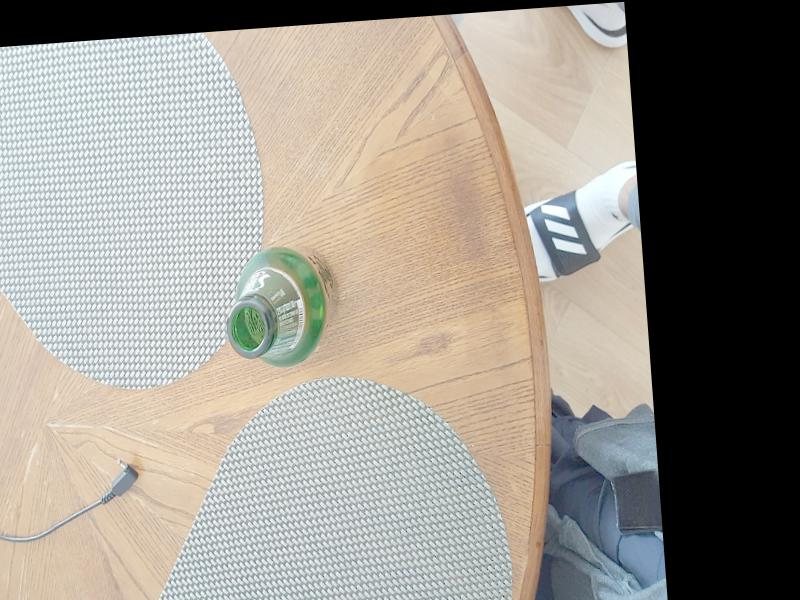Beer: (221, 243, 341, 372)
